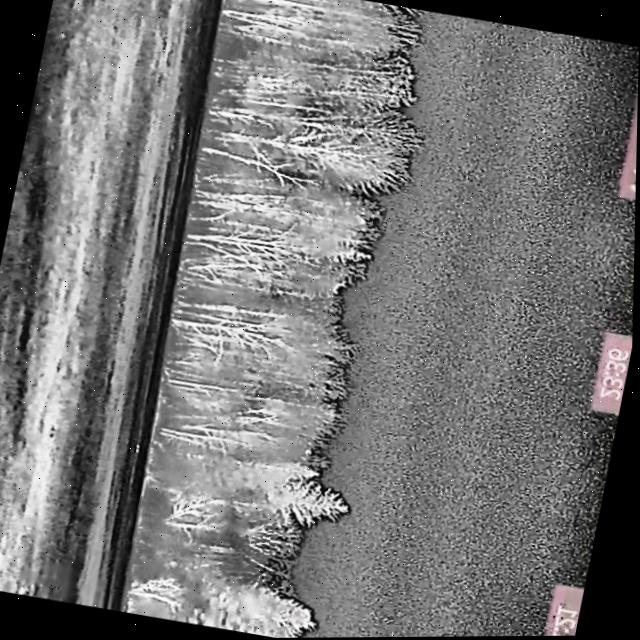drone: (301, 446, 316, 459)
